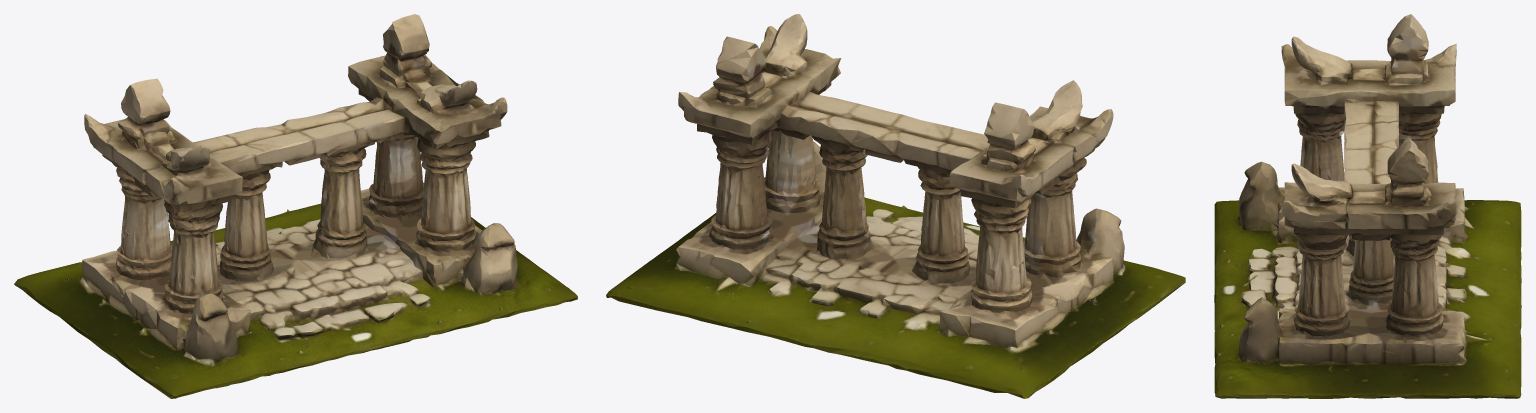
Rendered from fallen_temple_log.glb.
3 renders of one model, left to right at view 1: azimuth 30°, elevation 25°; view 2: azimuth 150°, elevation 25°; view 3: azimuth 270°, elevation 25°, orthographic. The views are drawn at different scales.
Parts seen in each view (by area): view 1: fallen_temple_log; view 2: fallen_temple_log; view 3: fallen_temple_log.
Boxes of the visible parts, box(x1,y1,x2,y2) form: fallen_temple_log: box(14, 14, 577, 398); fallen_temple_log: box(606, 14, 1185, 398); fallen_temple_log: box(1214, 14, 1521, 398).
Bounding box in the file's own units: 1.9 × 1.01 × 1.27.
Materials: 1 (1 with a texture image).
